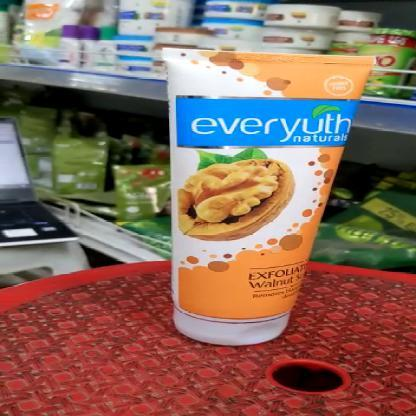EY EXF WALNUT SCRUB AYR 200G: (148, 46, 373, 348)
